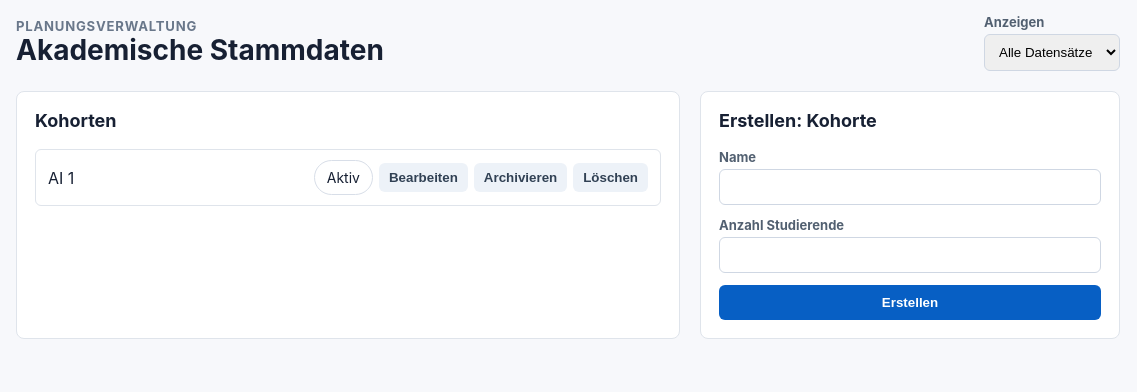
Scenario: AcademicDataPage › shows lifecycle failures instead of leaving an unhandled rejection
The image size is (1137, 392).
What coordinates should you click on to do the following:
click the button "Archivieren"
I would click on:
 (520, 178)
Its box is [474,163,567,192].
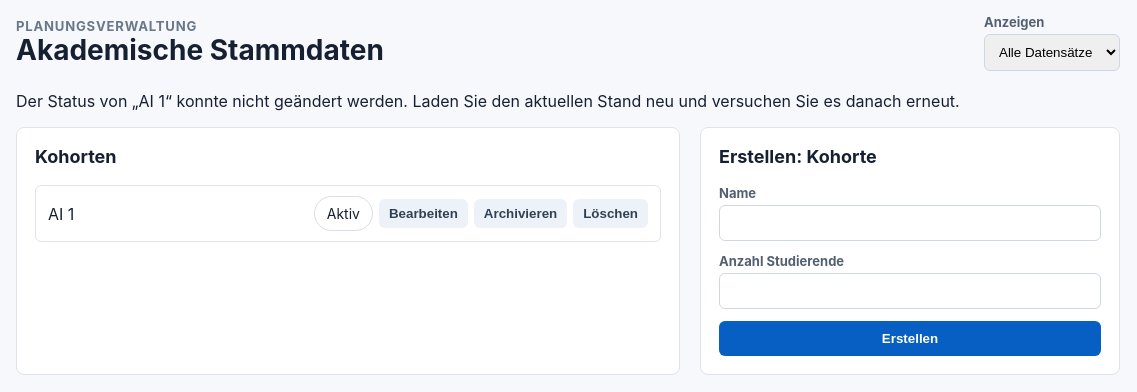
Expected: the text "aktuellen Stand neu" is shown, [16,91,960,111]
